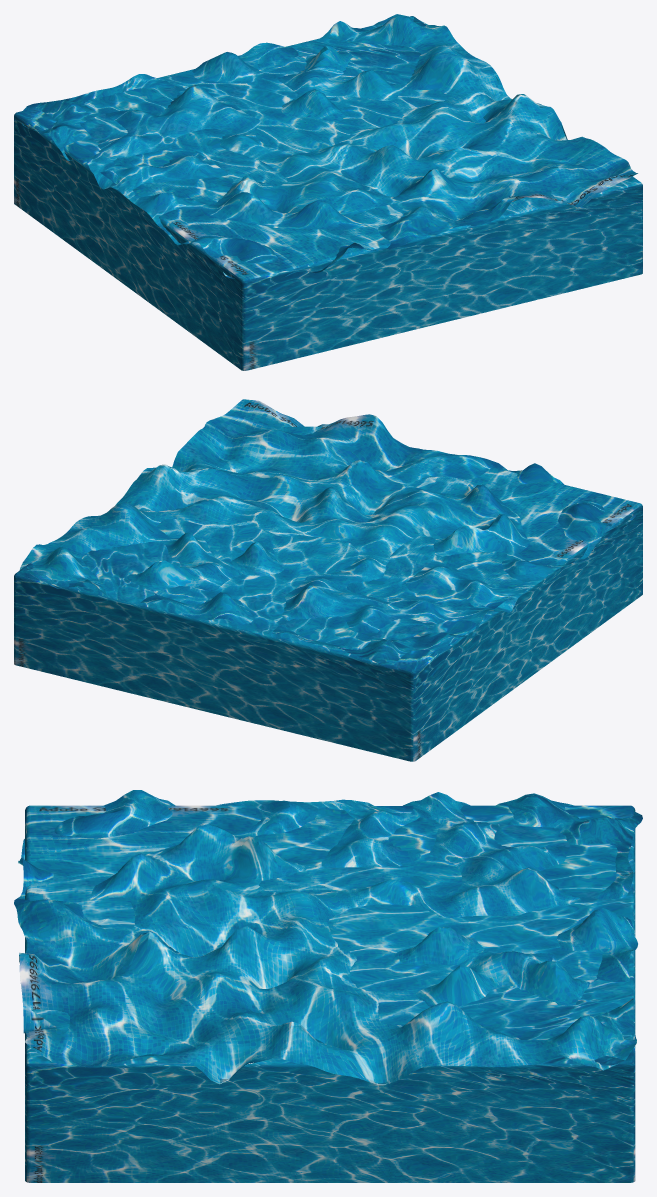
File: OCEANO.obj
3 renders of one model, top to bottom at view 1: azimuth 30°, elevation 25°; view 2: azimuth 150°, elevation 25°; view 3: azimuth 270°, elevation 25°, orthographic. The views are drawn at different scales.
Visible parts, largest first — view 1: 000_Plane, 001_Plane; view 2: 000_Plane, 001_Plane; view 3: 000_Plane, 001_Plane.
Part boxes in pixels (x1=…): 000_Plane: x1=14, y1=14, x2=642, y2=370; 001_Plane: x1=22, y1=14, x2=637, y2=278; 000_Plane: x1=14, y1=399, x2=642, y2=761; 001_Plane: x1=24, y1=399, x2=636, y2=669; 000_Plane: x1=14, y1=791, x2=642, y2=1182; 001_Plane: x1=14, y1=790, x2=642, y2=1083.
Bounding box in the file's own units: 454 × 119 × 449.
Materials: 2 (2 with a texture image).
